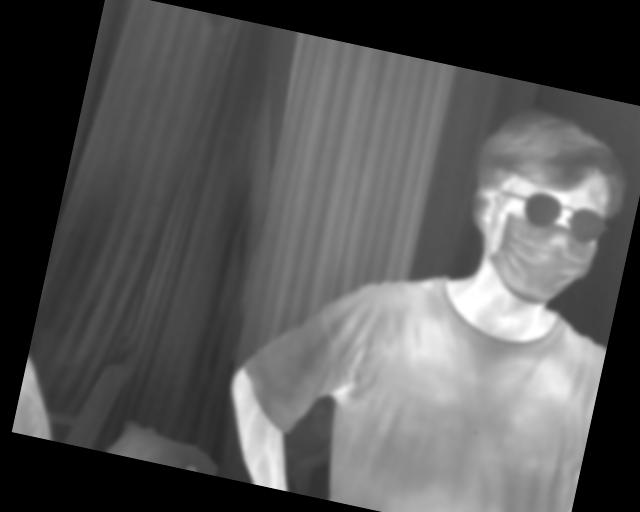face: (449, 100, 632, 317)
